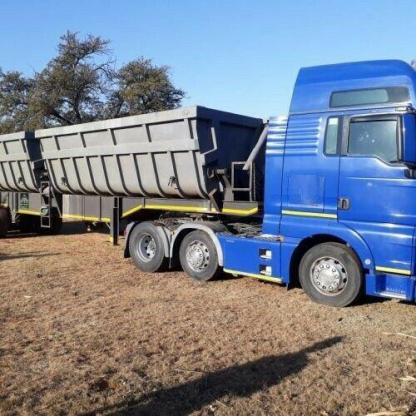dump_truck: (13, 49, 415, 319)
